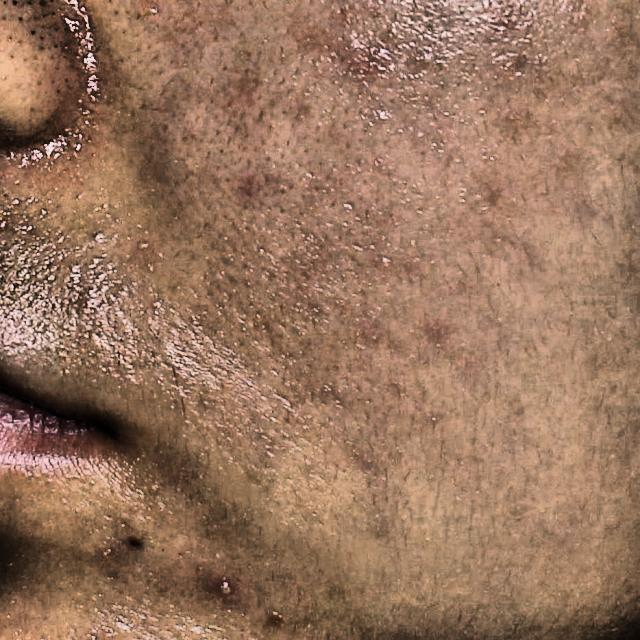whiteheads: (138, 239, 152, 253)
